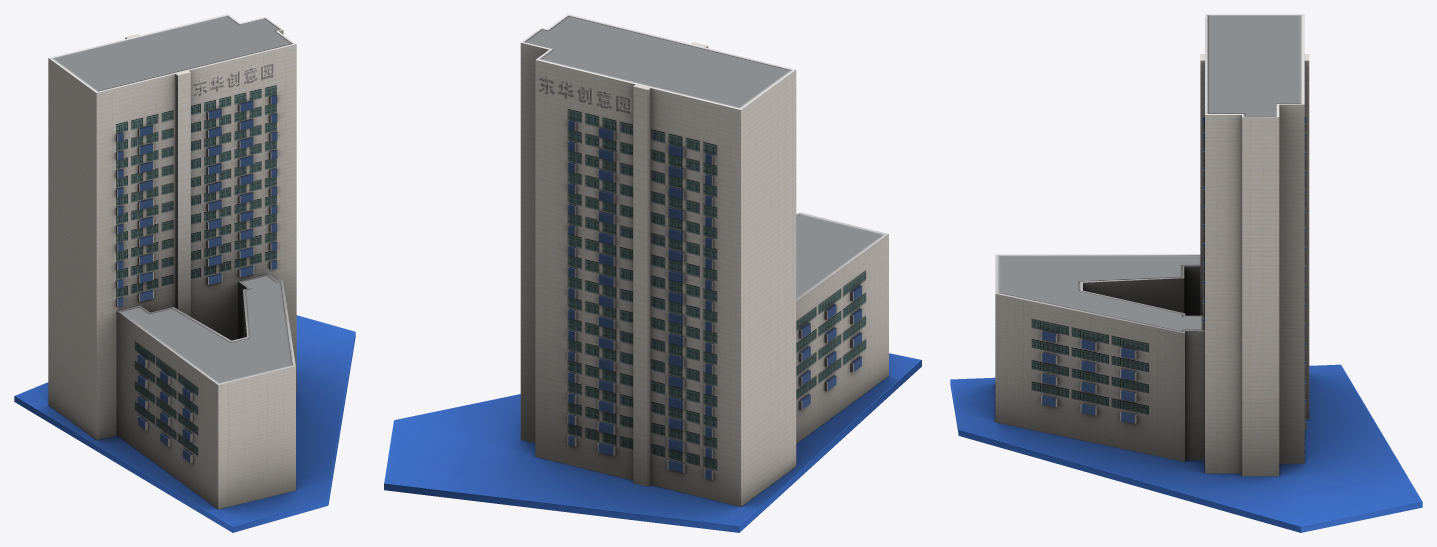
The model's file is dhcyy.gltf.
3 renders of one model, left to right at view 1: azimuth 30°, elevation 25°; view 2: azimuth 150°, elevation 25°; view 3: azimuth 270°, elevation 25°, orthographic. The views are drawn at different scales.
Parts seen in each view (by area): view 1: pCube2, pCube3, pCube1, pCube31; view 2: pCube2, pCube1, pCube3, pCube32; view 3: pCube2, pCube3, pCube1, pCube32, pCube31.
Part boxes in pixels (x1,y1,x2,y2): pCube2: (48, 14, 296, 440); pCube3: (116, 274, 295, 509); pCube1: (14, 315, 355, 532); pCube31: (175, 70, 190, 316); pCube2: (520, 14, 796, 506); pCube1: (384, 353, 921, 532); pCube3: (796, 212, 888, 443); pCube32: (633, 84, 650, 486); pCube2: (1205, 14, 1304, 476); pCube3: (995, 254, 1204, 461); pCube1: (950, 364, 1422, 532); pCube32: (1304, 54, 1309, 419); pCube31: (1200, 54, 1204, 315).
Size of the model in its own units: 14.16 by 14.84 by 17.4.
Materials: 1 (1 with a texture image).
